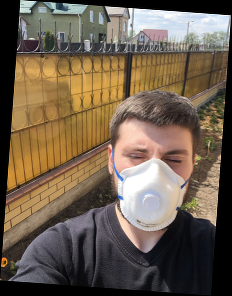with_mask: (113, 135, 190, 232)
